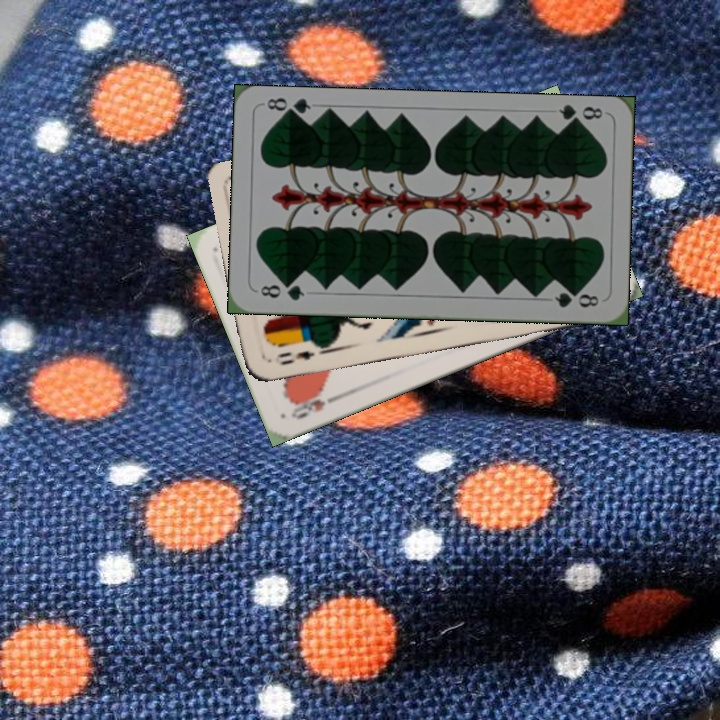EO: (271, 346, 317, 368)
G8: (555, 102, 605, 129), (256, 279, 307, 304)
HO: (286, 389, 343, 422)
